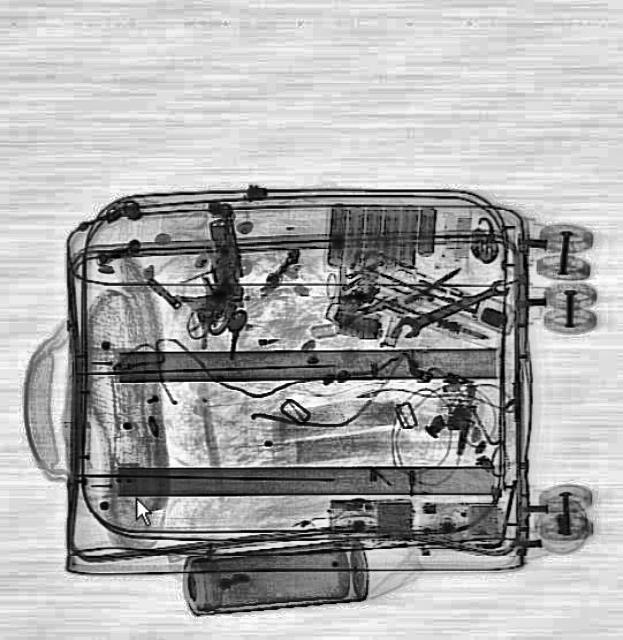Wrench: (391, 272, 514, 342)
